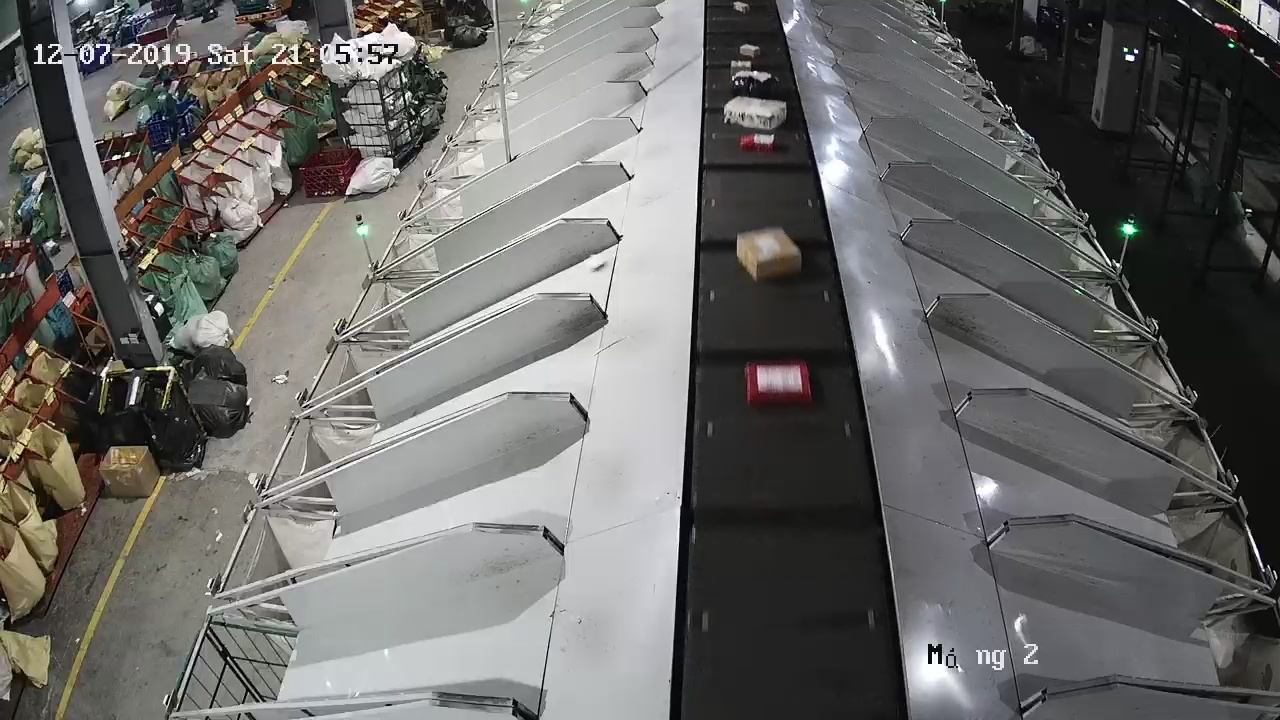parcel: (583, 253, 605, 272)
